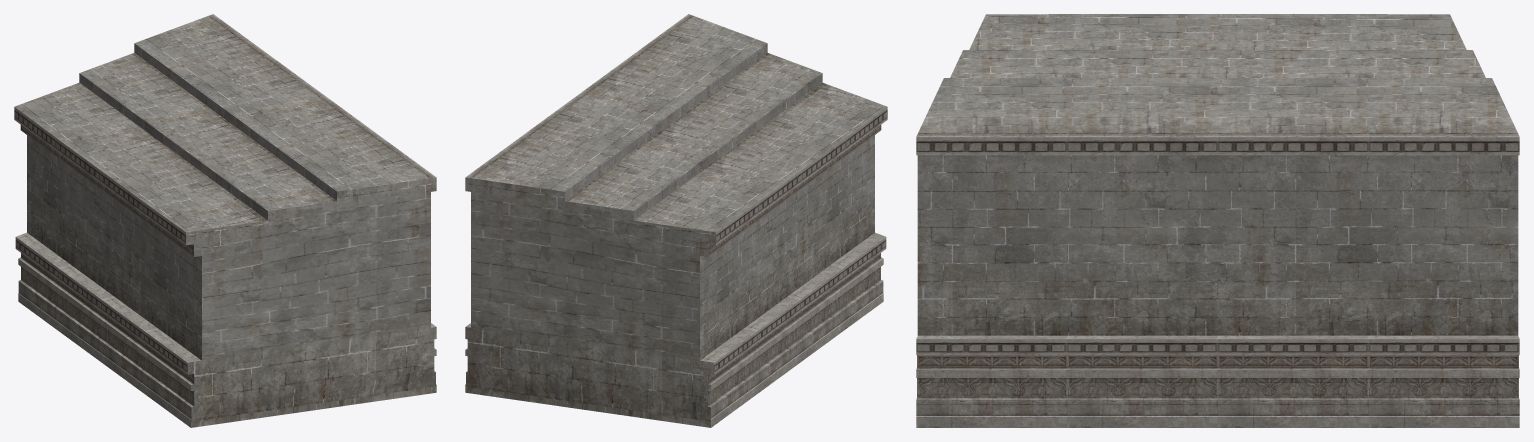
Rendered from bg_lut_lucastle_arena04_sm_ksh.FBX.
The picture shows the model from 3 angles, left to right: view 1: azimuth 30°, elevation 25°; view 2: azimuth 150°, elevation 25°; view 3: azimuth 270°, elevation 25°; orthographic projection. The views are drawn at different scales.
Visible parts, largest first — view 1: bg_lut_lucastle_arena04_sm_ksh; view 2: bg_lut_lucastle_arena04_sm_ksh; view 3: bg_lut_lucastle_arena04_sm_ksh.
Boxes of the visible parts, box(x1,y1,x2,y2) form: bg_lut_lucastle_arena04_sm_ksh: box(14, 14, 436, 427); bg_lut_lucastle_arena04_sm_ksh: box(465, 14, 887, 427); bg_lut_lucastle_arena04_sm_ksh: box(916, 14, 1519, 427).
Bounding box in the file's own units: 447 × 409 × 768.
